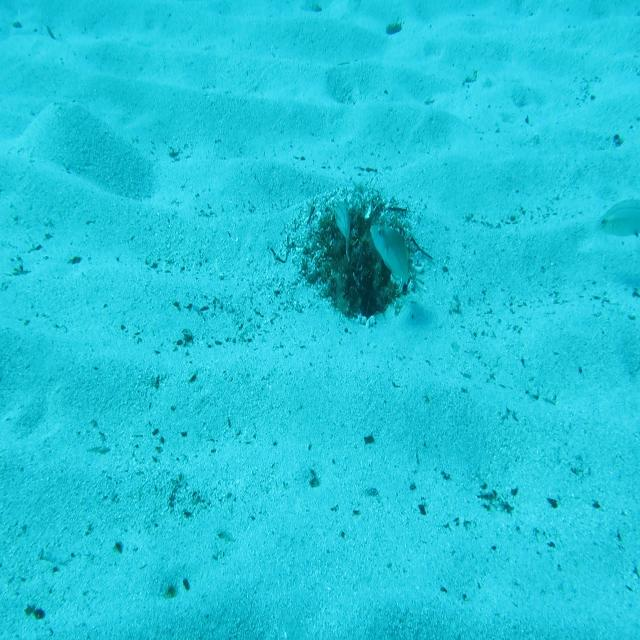GB: (369, 222, 413, 292)
female: (330, 197, 354, 267)
nest: (298, 176, 425, 319)
other_fish: (592, 190, 640, 242)
